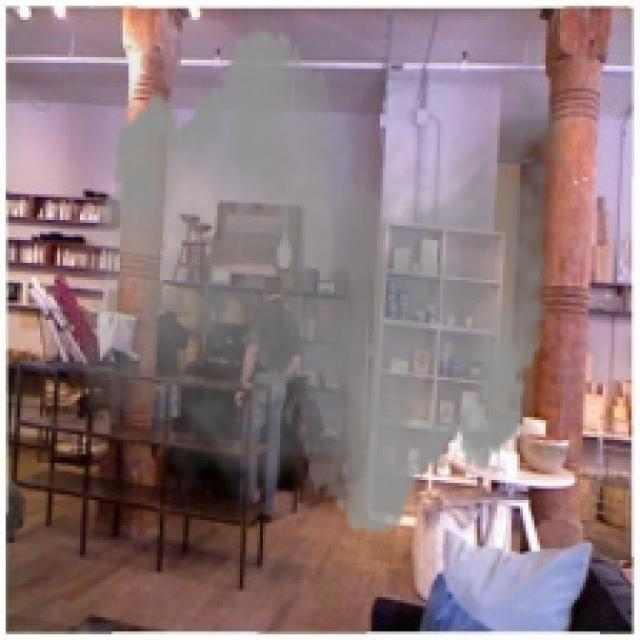smoke: (65, 11, 586, 552)
